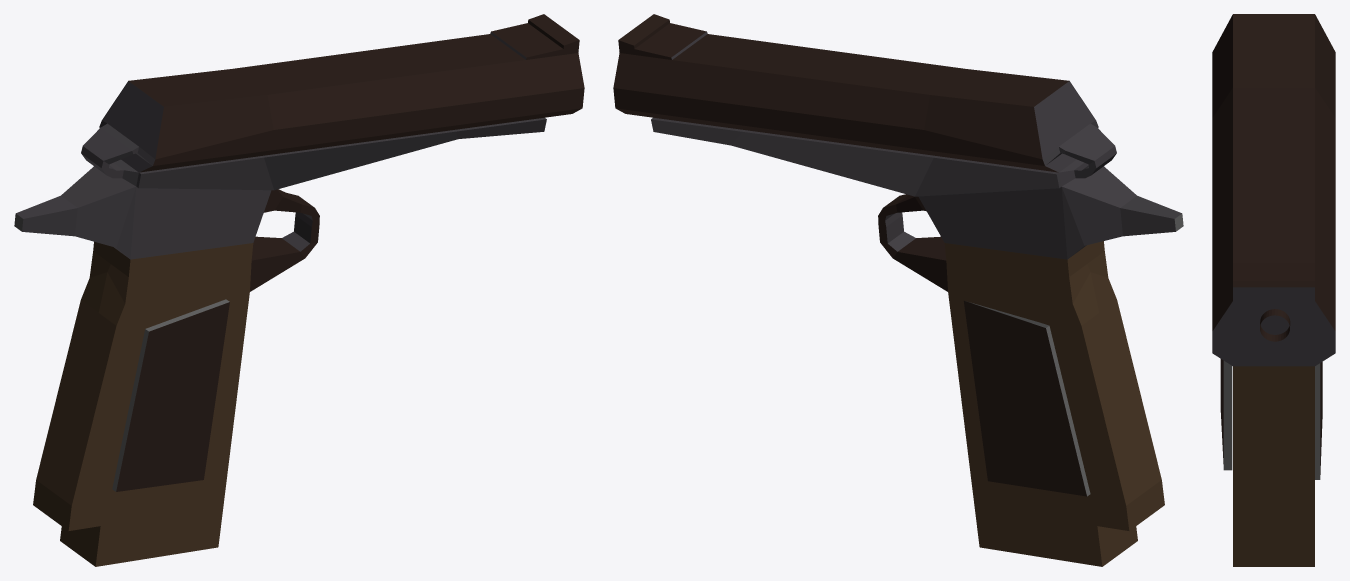
The model's file is pistoljce.glb.
3 renders of one model, left to right at view 1: azimuth 30°, elevation 25°; view 2: azimuth 150°, elevation 25°; view 3: azimuth 270°, elevation 25°, orthographic. The views are drawn at different scales.
Visible parts, largest first — view 1: Grip Scale; view 2: Grip Scale; view 3: Grip Scale.
Boxes of the visible parts, left/top/right/bottom form: Grip Scale: left=14, top=14, right=584, bottom=566; Grip Scale: left=613, top=14, right=1183, bottom=566; Grip Scale: left=1212, top=14, right=1335, bottom=566.
Bounding box in the file's own units: 0.7672 × 0.6034 × 0.129.
